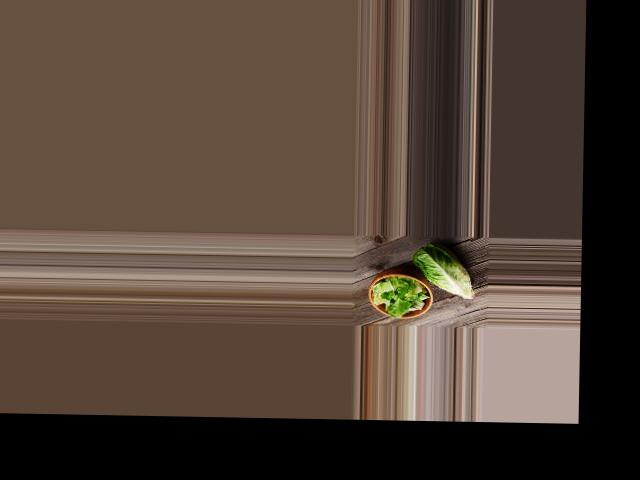lettuce: (412, 241, 473, 299)
